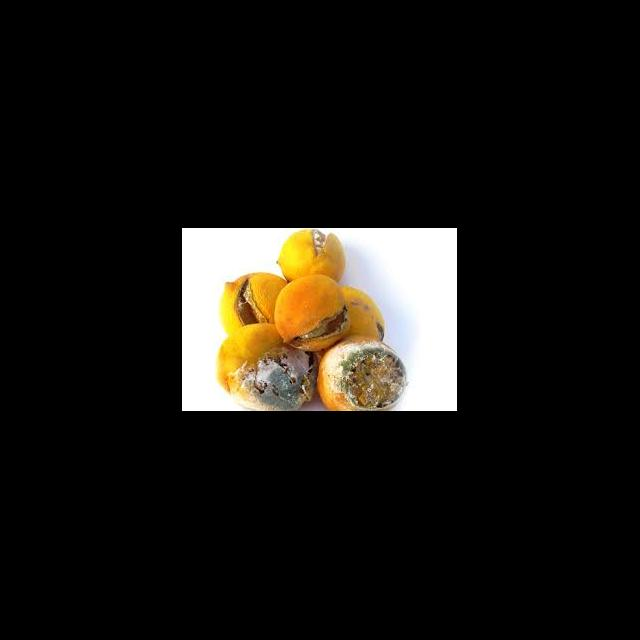food_waste: (199, 228, 426, 412)
